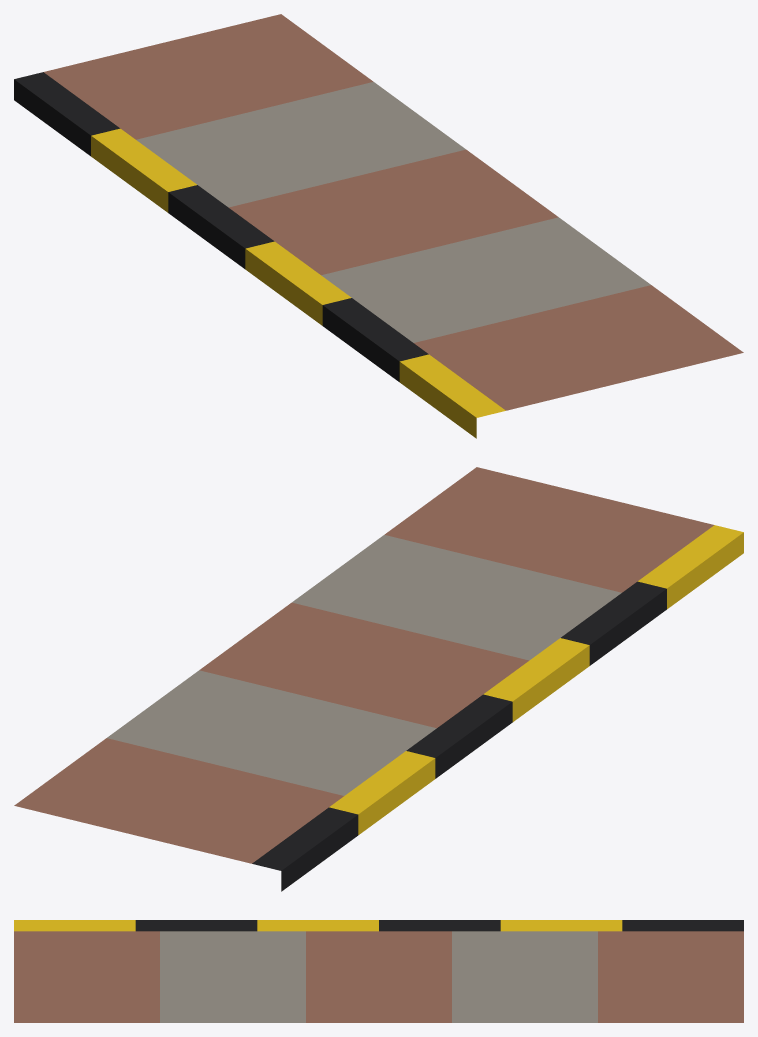
Rendered from road_walk_lane.glb.
The picture shows the model from 3 angles, top to bottom: view 1: azimuth 30°, elevation 25°; view 2: azimuth 150°, elevation 25°; view 3: azimuth 270°, elevation 25°; orthographic projection. The views are drawn at different scales.
Visible parts, largest first — view 1: road_walk_lane; view 2: road_walk_lane; view 3: road_walk_lane.
Boxes of the visible parts, <box> form: road_walk_lane: <box>14,14,743,438</box>; road_walk_lane: <box>14,467,743,891</box>; road_walk_lane: <box>14,920,743,1022</box>.
Bounding box in the file's own units: 2 × 0.15 × 6.
